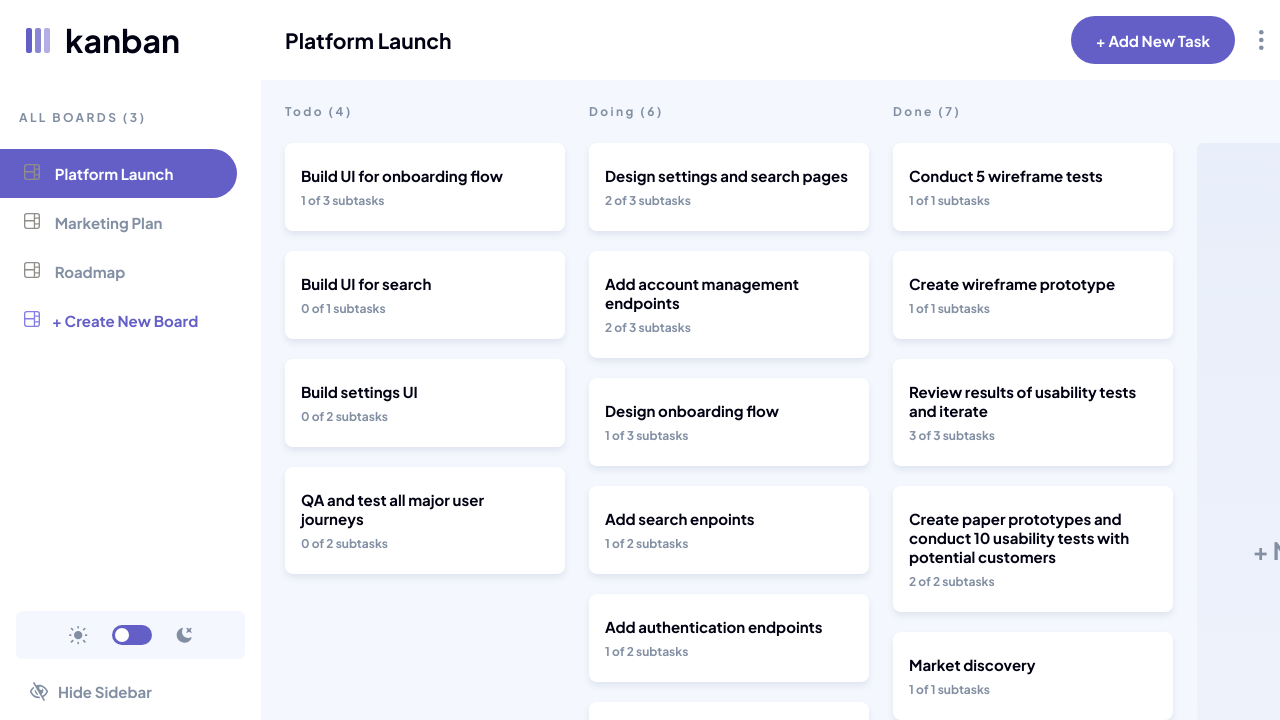
Test case: Board creation flow › Verification of the existence of elements necessary for the creation of board › should be a board creation form
This screenshot has width=1280, height=720.
# enter to creation form
Click the button with test id "add-board": (111, 321) [24,311,198,330]
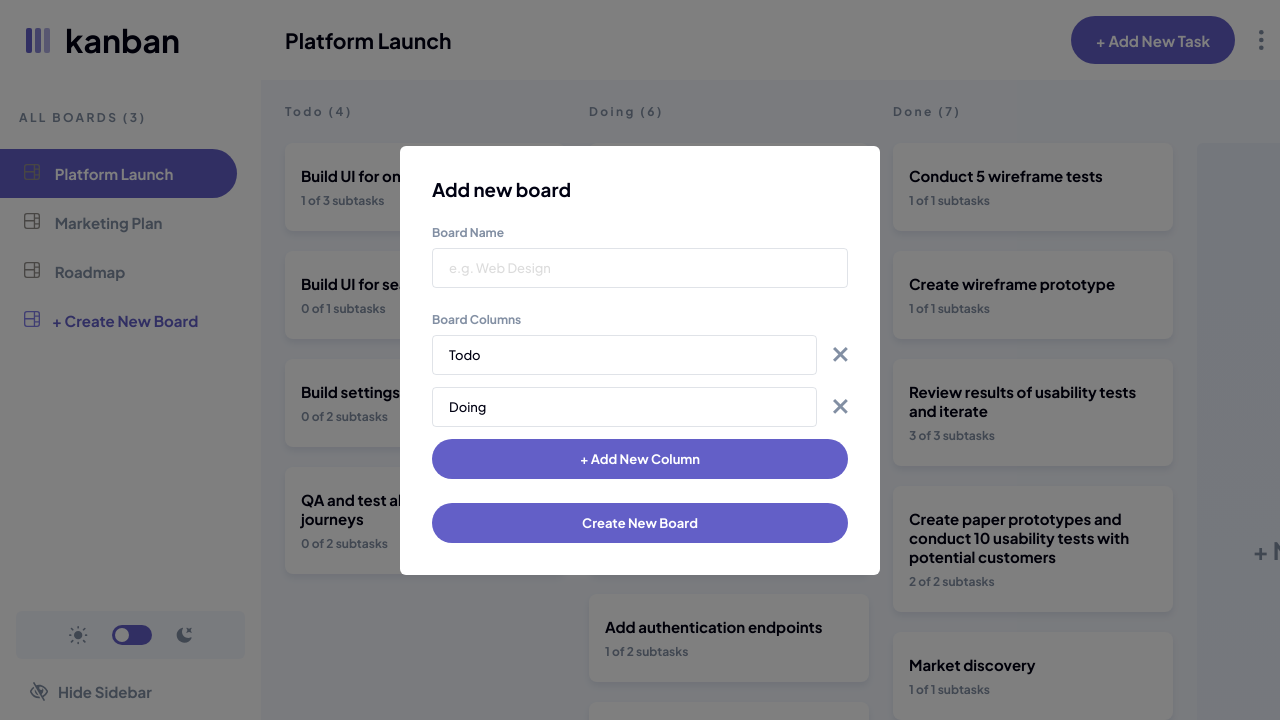
Check: the 1st field with test id "board-column" holds "Todo", box [432,335,817,375]
Check: the 2nd field with test id "board-column" holds "Doing", box [432,387,817,427]
Check: the button with test id "board-add-column" reads "+ Add New Column", box [432,439,848,479]
